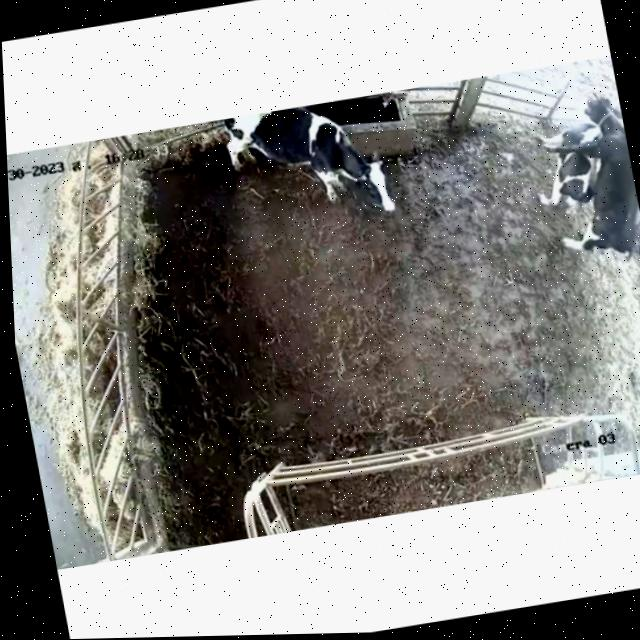ride: (529, 79, 640, 285)
